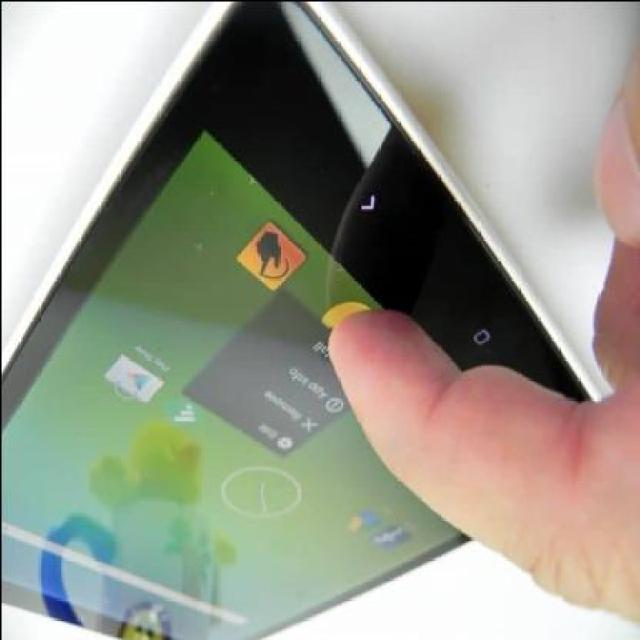tablet: (1, 24, 572, 615)
